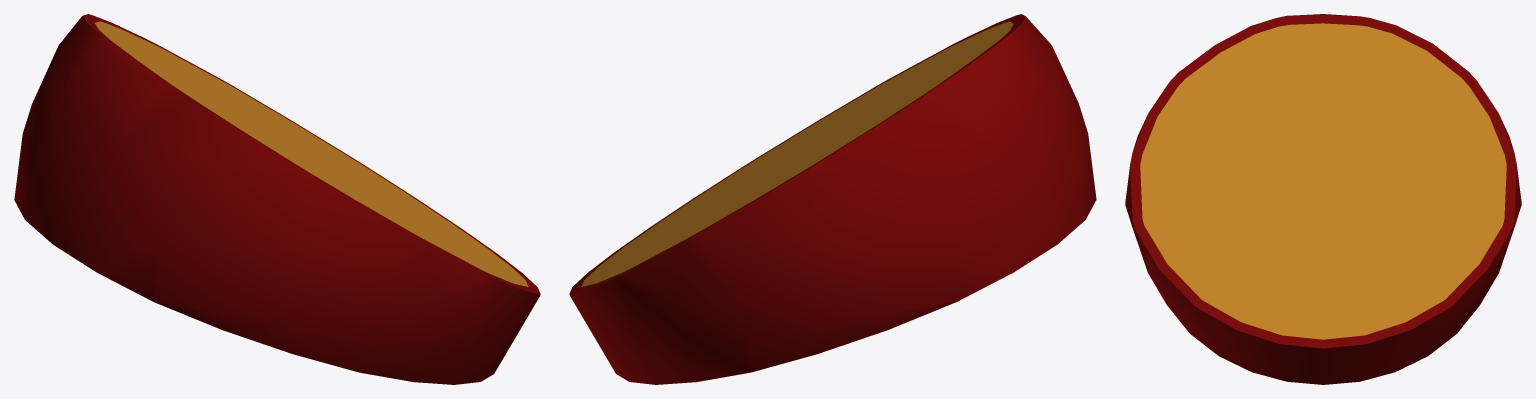
The model's file is apple2.fbx.
3 views of the same model, side by side, from view 1: azimuth 30°, elevation 25°; view 2: azimuth 150°, elevation 25°; view 3: azimuth 270°, elevation 25° (orthographic). The views are drawn at different scales.
Parts seen in each view (by area): view 1: apple2; view 2: apple2; view 3: apple2.
Part boxes in pixels (box(x1,y1,x2,y2)): apple2: box(14, 14, 540, 384); apple2: box(569, 14, 1096, 384); apple2: box(1125, 14, 1521, 384).
Bounding box in the file's own units: 26.09 × 20.01 × 28.38.
